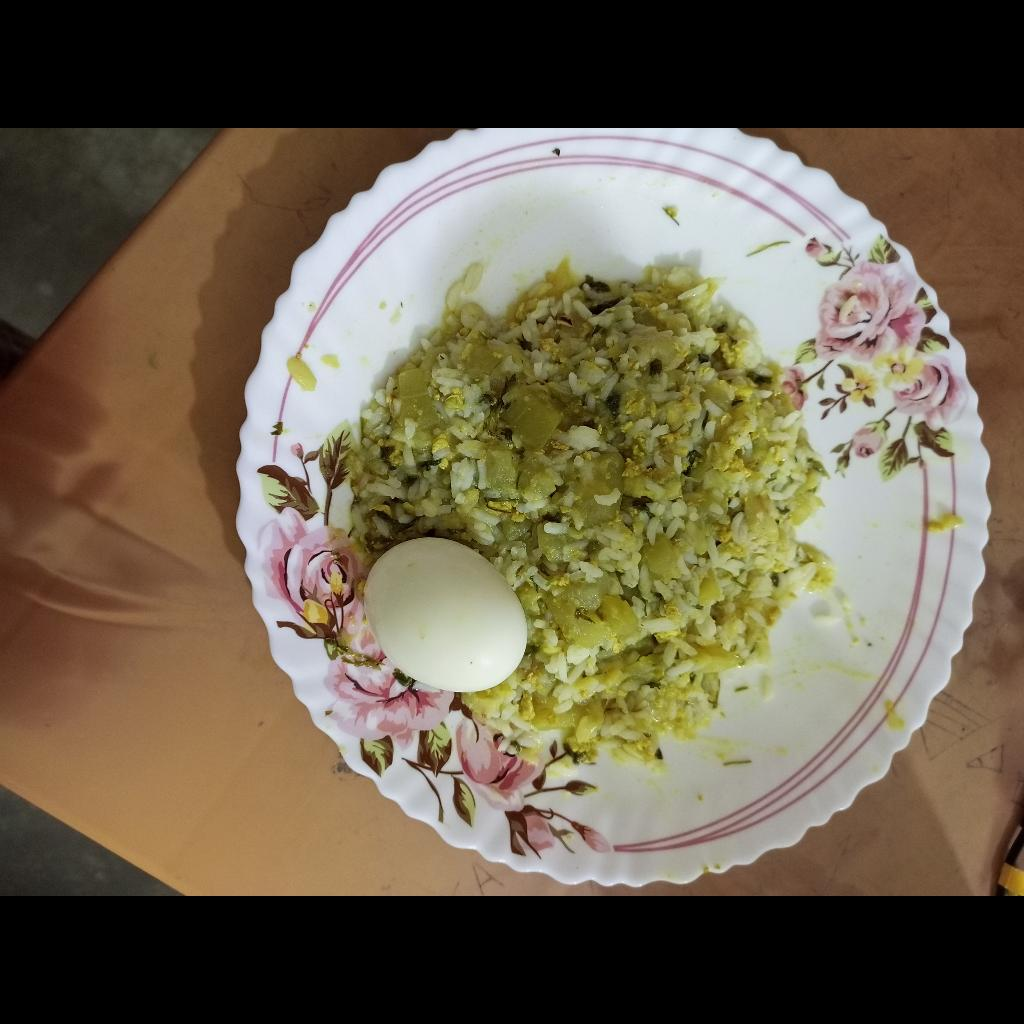egg-boiled: (360, 539, 527, 692)
khichuri: (346, 255, 831, 760)
